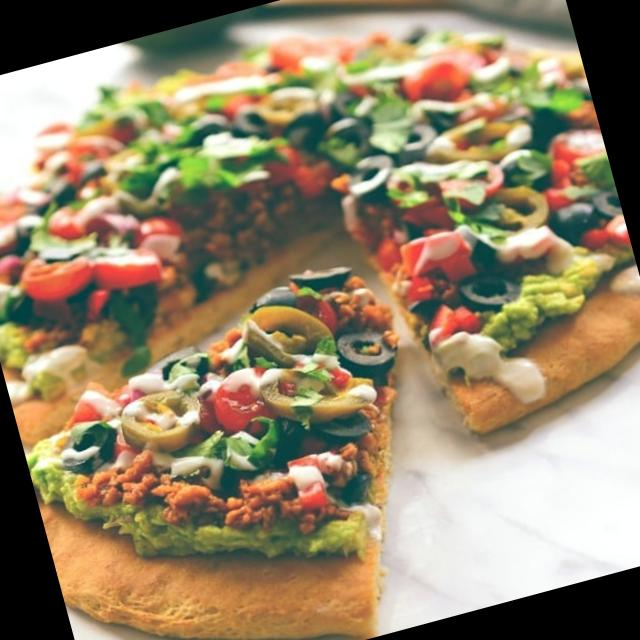black_olives: (284, 99, 366, 168), (548, 184, 625, 243), (50, 414, 119, 473), (334, 322, 398, 385), (336, 148, 401, 204), (291, 255, 358, 300), (462, 262, 516, 312), (388, 118, 443, 162), (322, 406, 376, 440), (230, 100, 270, 136)
pizza: (0, 22, 640, 640)
